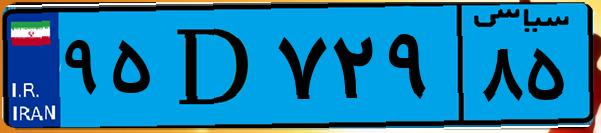2: (330, 28, 385, 110)
5: (525, 38, 570, 115), (110, 28, 158, 98)
7: (270, 28, 330, 110)
8: (475, 38, 525, 113)
9: (385, 28, 445, 110), (57, 26, 110, 100)
D: (158, 12, 270, 120)
